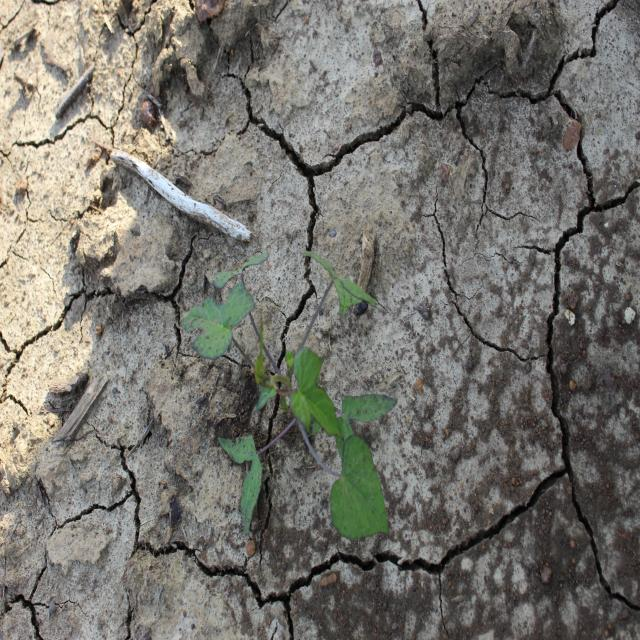MorningGlory: (180, 248, 400, 542)
